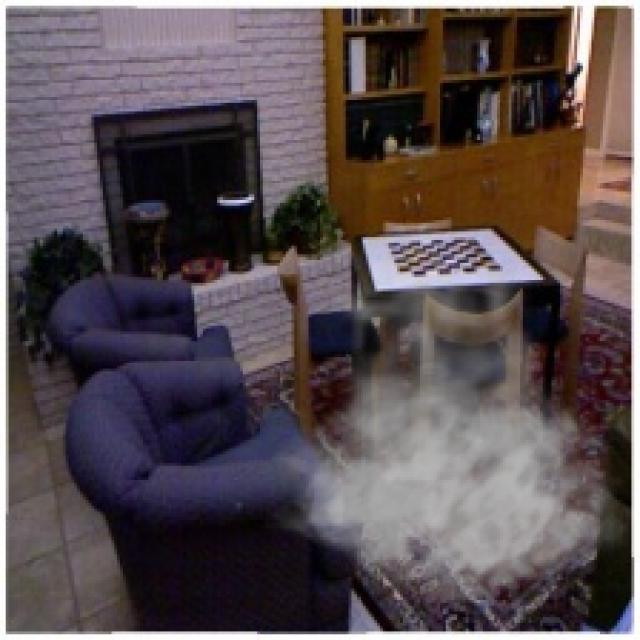smoke: (266, 248, 628, 606)
